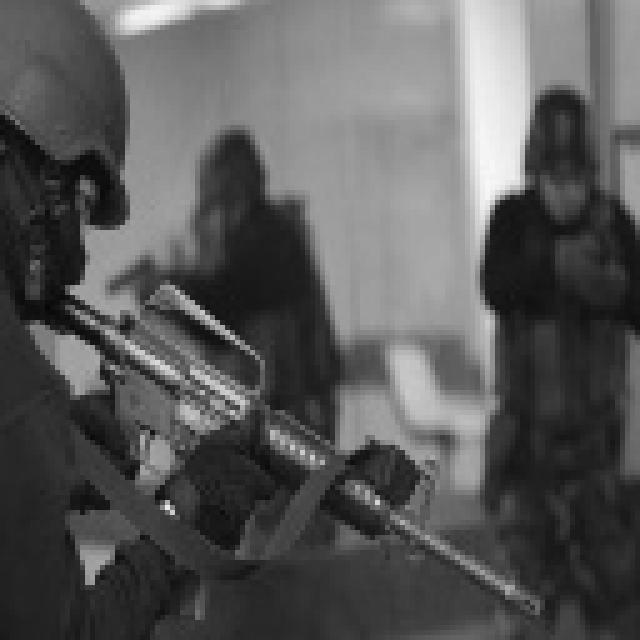Rifle: (12, 218, 581, 640)
